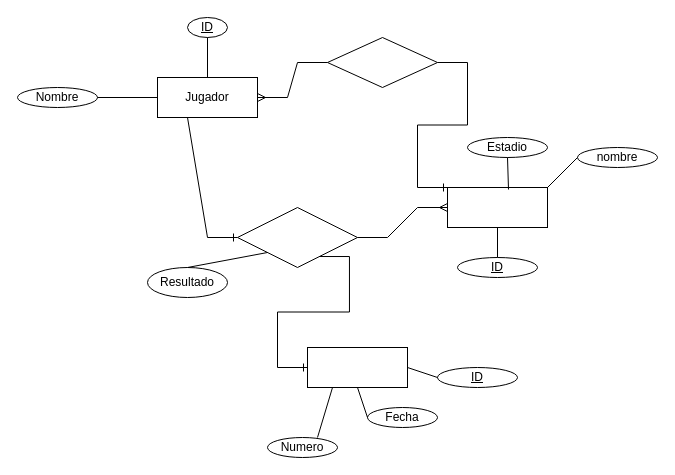
Image size: 675x475. Some labels were removed from this diagram. The centre of each missing label's shape, as x and y in pixels:
"Equipo" belongs at [497,207].
"Jornada" belongs at [357,367].
"juega" belongs at [297,237].
"pertenece" belongs at [382,62].
